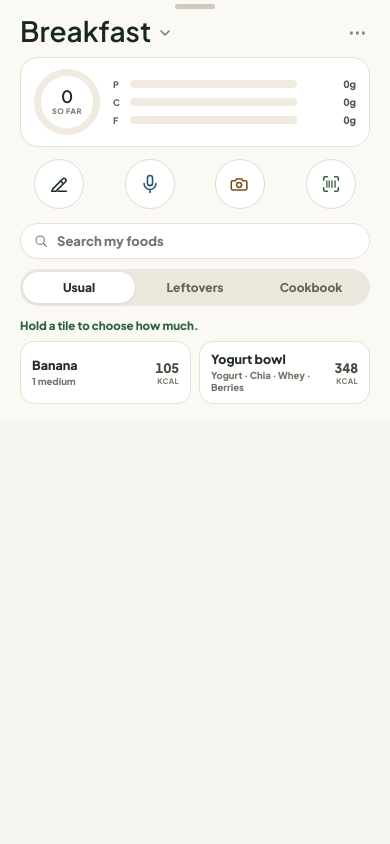
it: "What did you have?" — look it up, then Looks right › lists what she found, drops a row on ×, and adds exactly what is left
Expected: the element named "Shelves" is shown, left=20, top=269, right=370, bottom=306
Click the button named "Type it" at (59, 184), box left=34, top=159, right=84, bottom=209
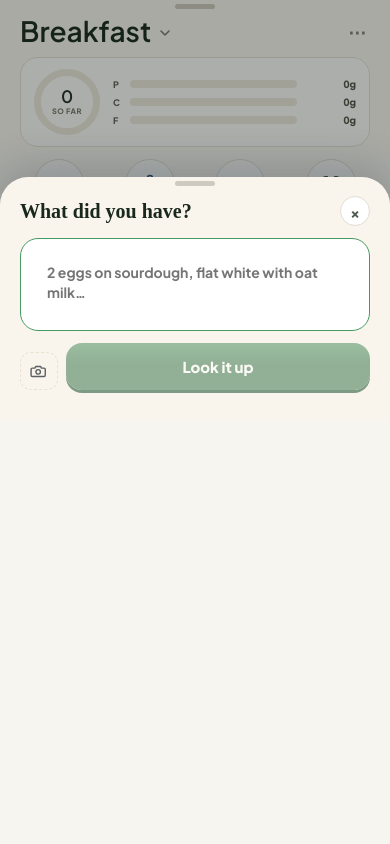
Type "2 eggs and a flat white" into the text box named "What did you have?" at (195, 282), box left=35, top=251, right=355, bottom=314
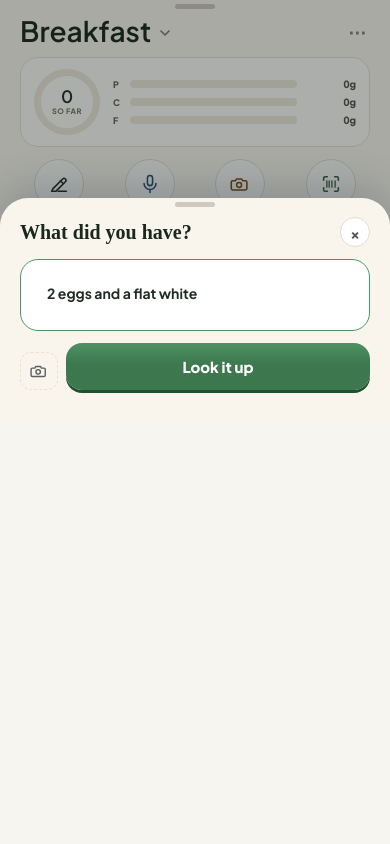
Click the button "Look it up" at (218, 366), box left=66, top=343, right=370, bottom=390
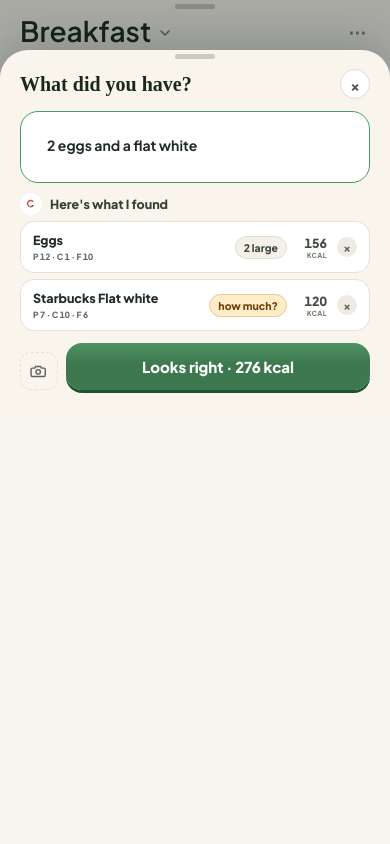
Expected: the text "Here's what I found" is shown, left=50, top=196, right=168, bottom=212
Expected: the text "2 large" is shown, left=235, top=236, right=287, bottom=258
Expected: the text "how much?" is shown, left=209, top=294, right=287, bottom=316
Click the button named "Drop Flat white" at (347, 305), box left=337, top=295, right=357, bottom=315
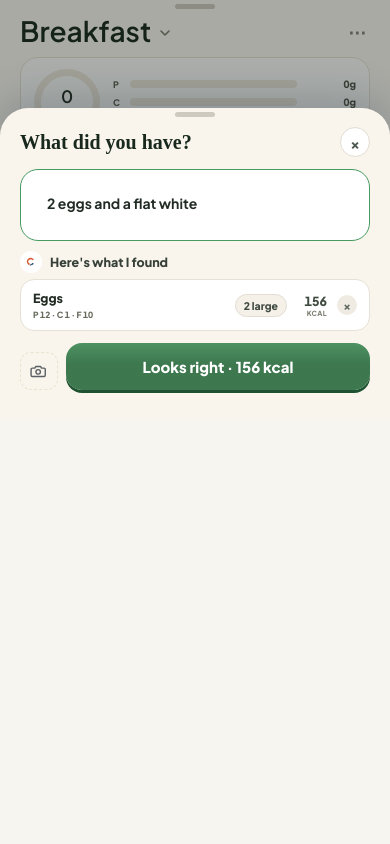
Click the button "Looks right · 156 kcal" at (218, 366), box left=66, top=343, right=370, bottom=390
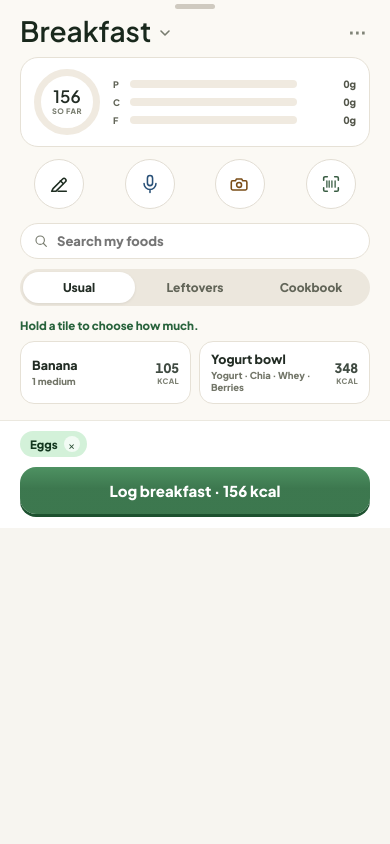
Expected: the heading "What did you have?" is gone
